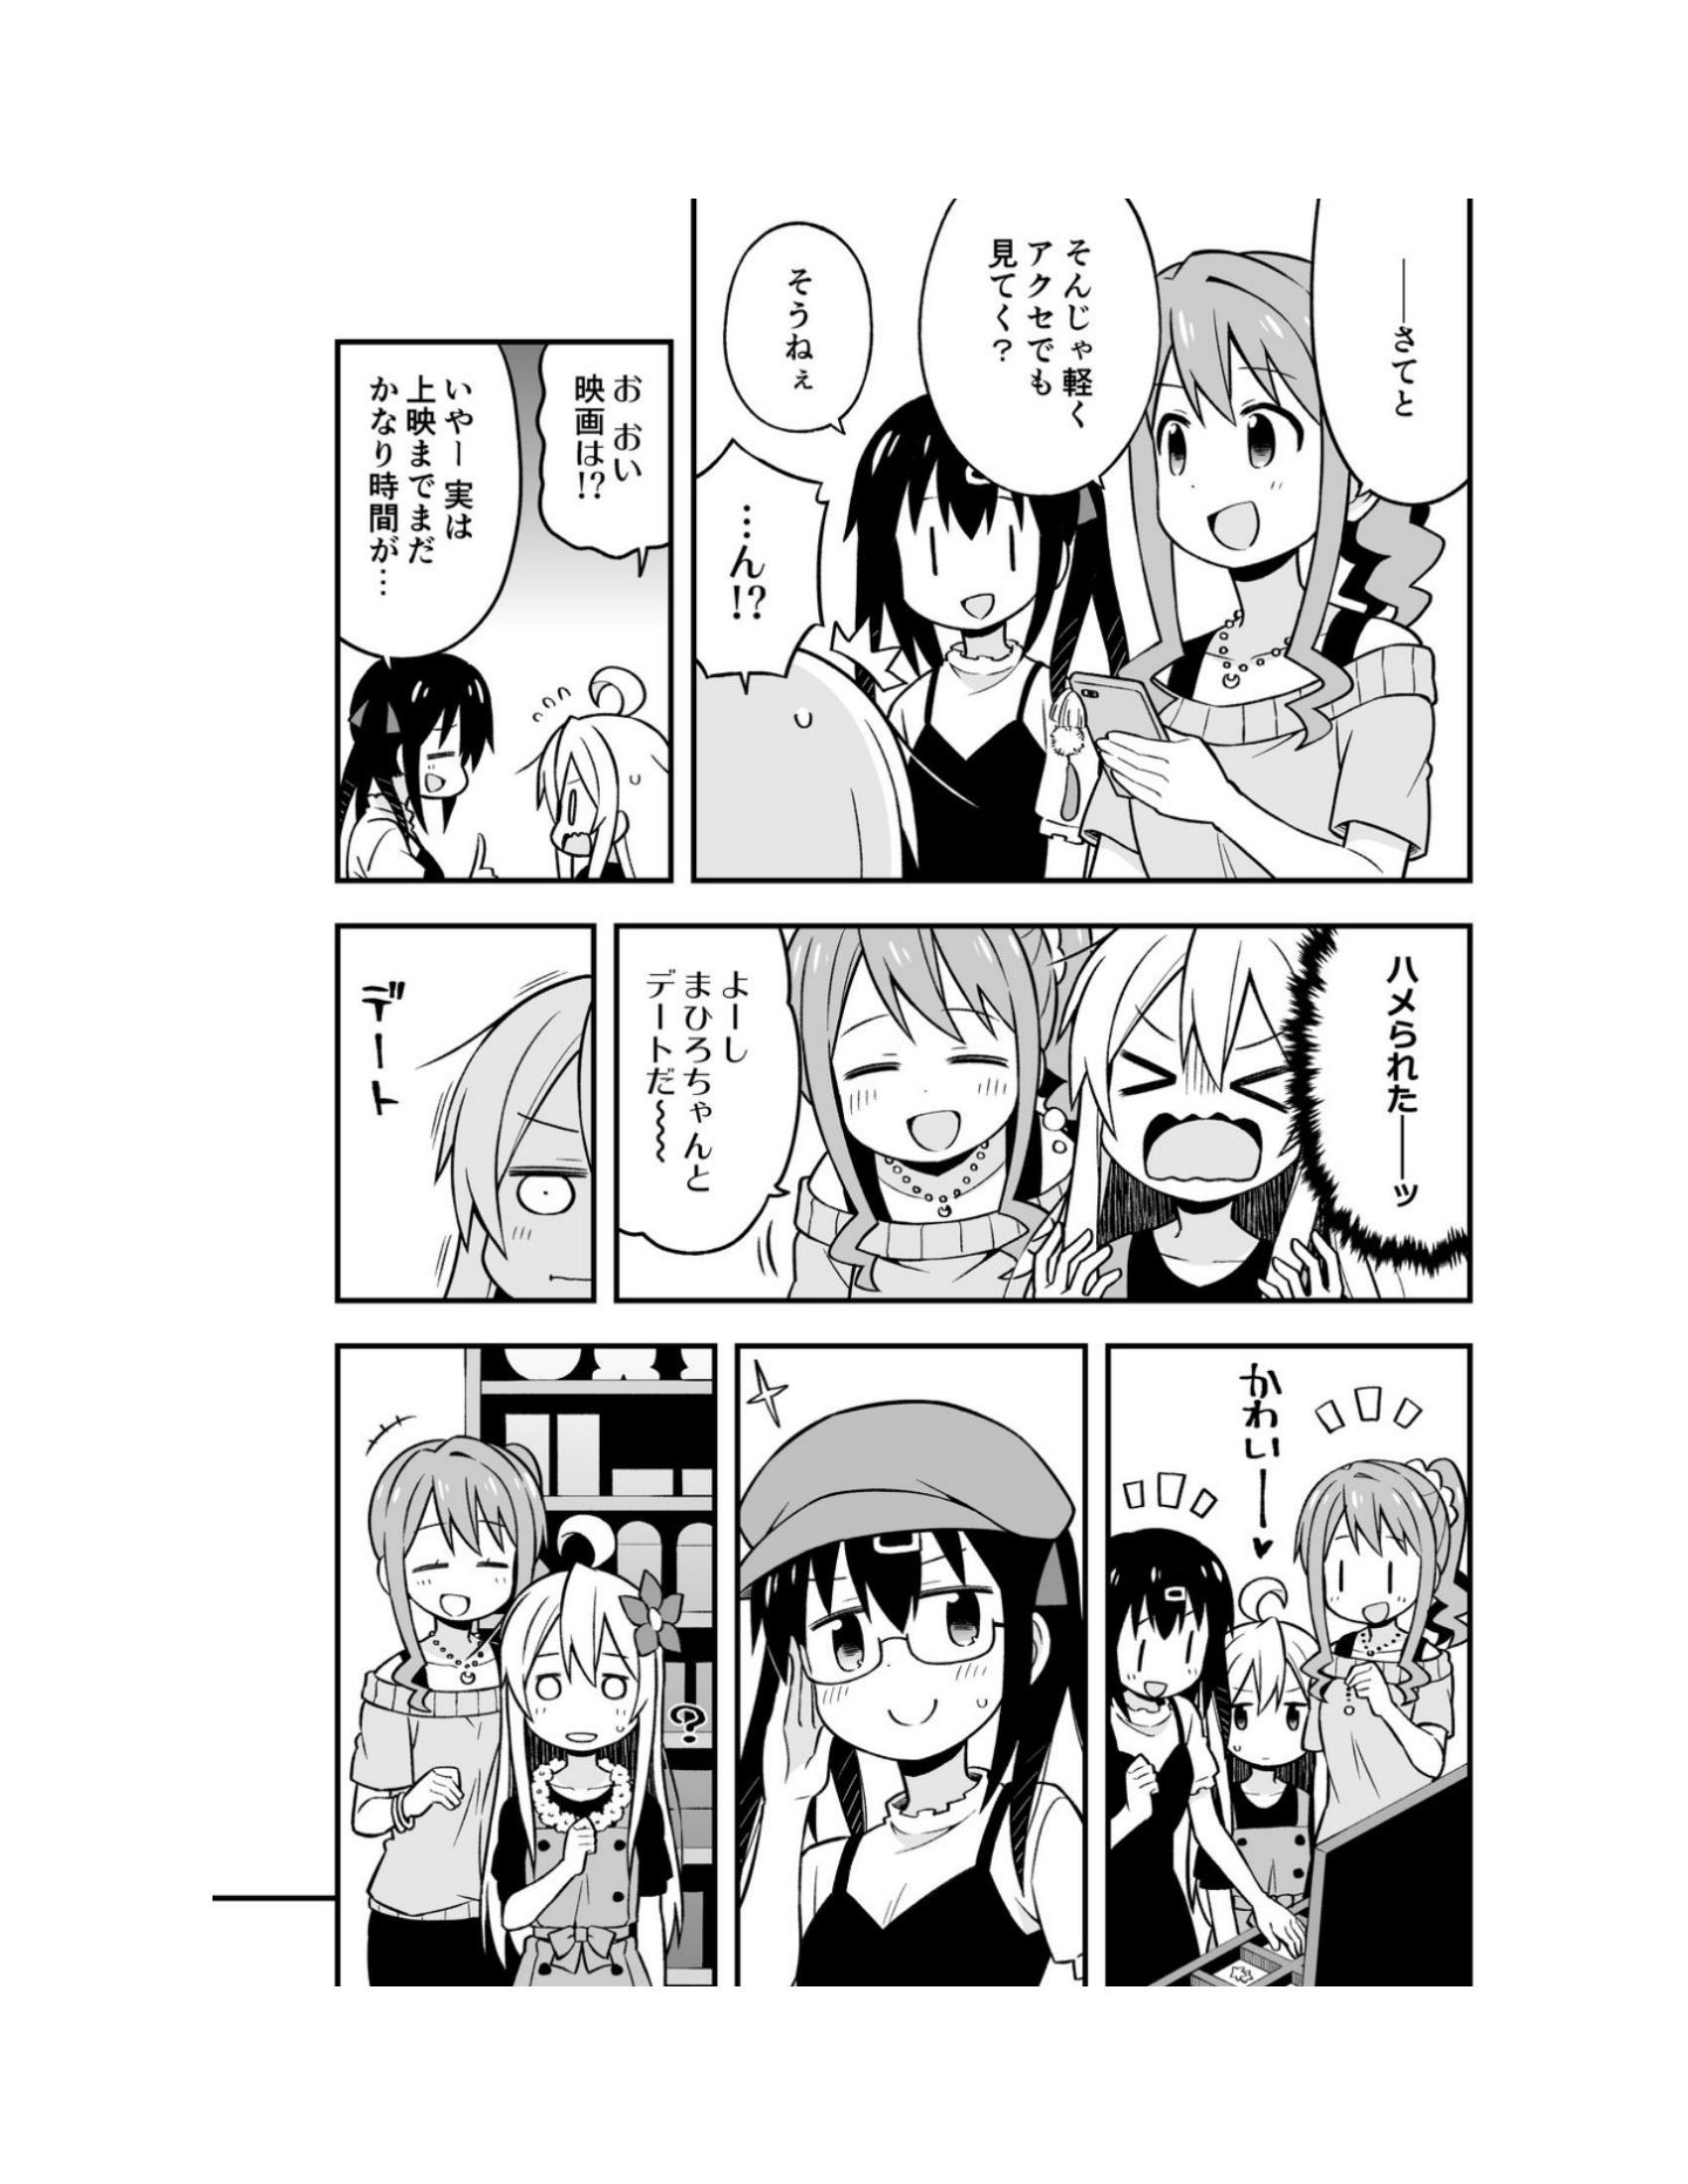a: (904, 151, 1170, 509), (1264, 158, 1520, 528), (1287, 925, 1534, 1273), (587, 915, 849, 1239), (298, 326, 544, 656), (695, 179, 894, 438), (523, 330, 684, 596), (676, 445, 796, 700)
